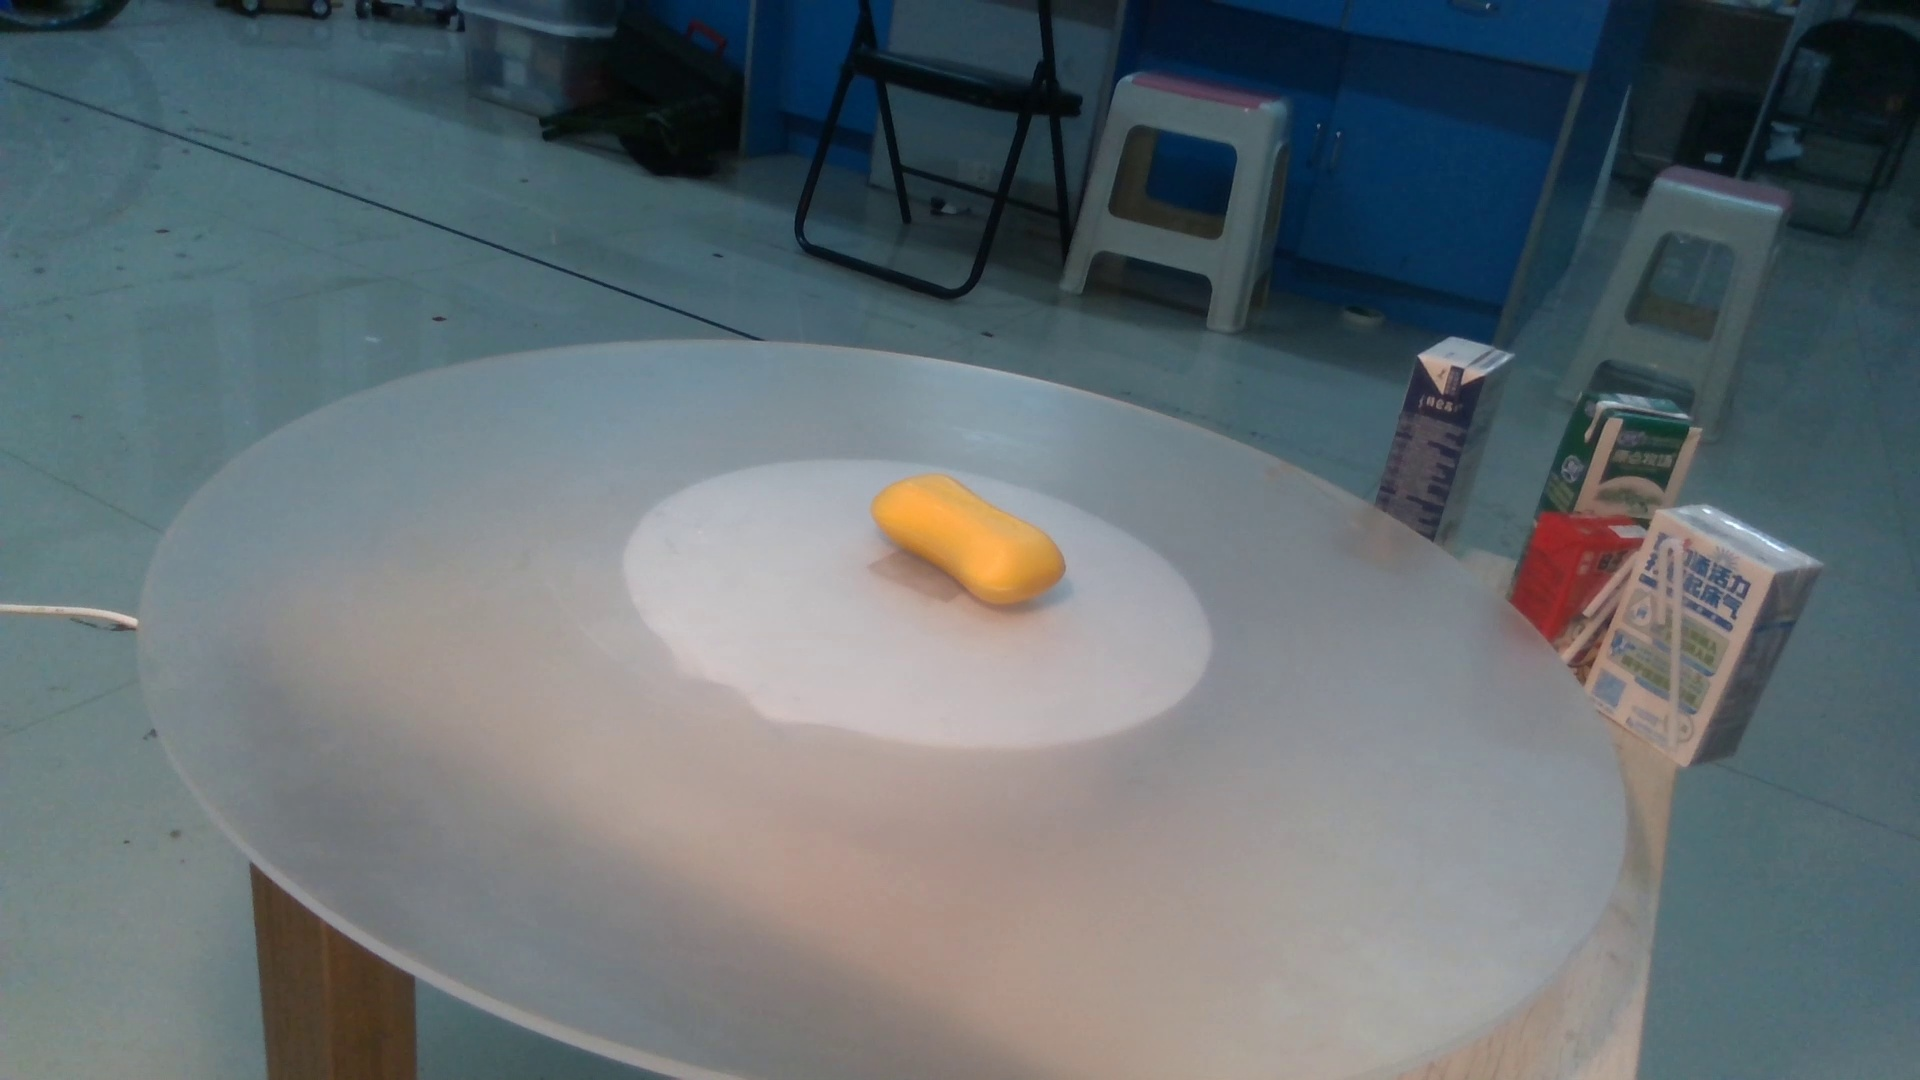CA003_1: (851, 462, 1110, 626)
